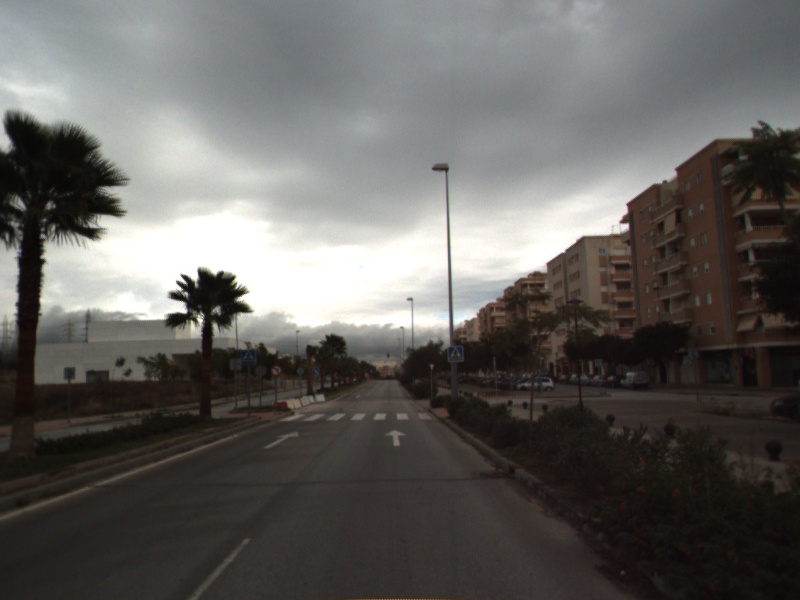STRAIGHT: (262, 429, 301, 450), (383, 427, 408, 448)
